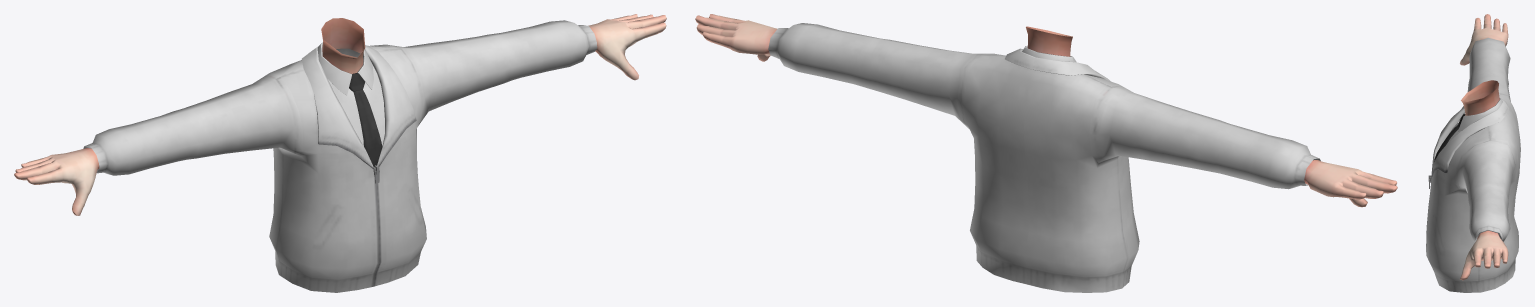
File: tr0840_00_upb03.gltf
3 renders of one model, left to right at view 1: azimuth 30°, elevation 25°; view 2: azimuth 150°, elevation 25°; view 3: azimuth 270°, elevation 25°, orthographic. The views are drawn at different scales.
Parts seen in each view (by area): view 1: upb03_upperbody_mesh_shape:upperbody03, upb03_upperbodyskin_mesh_shape:upperbody03_skin; view 2: upb03_upperbody_mesh_shape:upperbody03, upb03_upperbodyskin_mesh_shape:upperbody03_skin; view 3: upb03_upperbody_mesh_shape:upperbody03, upb03_upperbodyskin_mesh_shape:upperbody03_skin.
Boxes of the visible parts, x1,y1,x2,y2 form: upb03_upperbody_mesh_shape:upperbody03: [83, 20, 597, 292]; upb03_upperbodyskin_mesh_shape:upperbody03_skin: [14, 14, 666, 215]; upb03_upperbody_mesh_shape:upperbody03: [768, 23, 1320, 292]; upb03_upperbodyskin_mesh_shape:upperbody03_skin: [695, 14, 1397, 207]; upb03_upperbody_mesh_shape:upperbody03: [1426, 37, 1520, 292]; upb03_upperbodyskin_mesh_shape:upperbody03_skin: [1460, 14, 1508, 280].
Size of what is drawn, in the model's own units: 1.63 by 0.5727 by 0.2606.
Materials: 2 (2 with a texture image).
